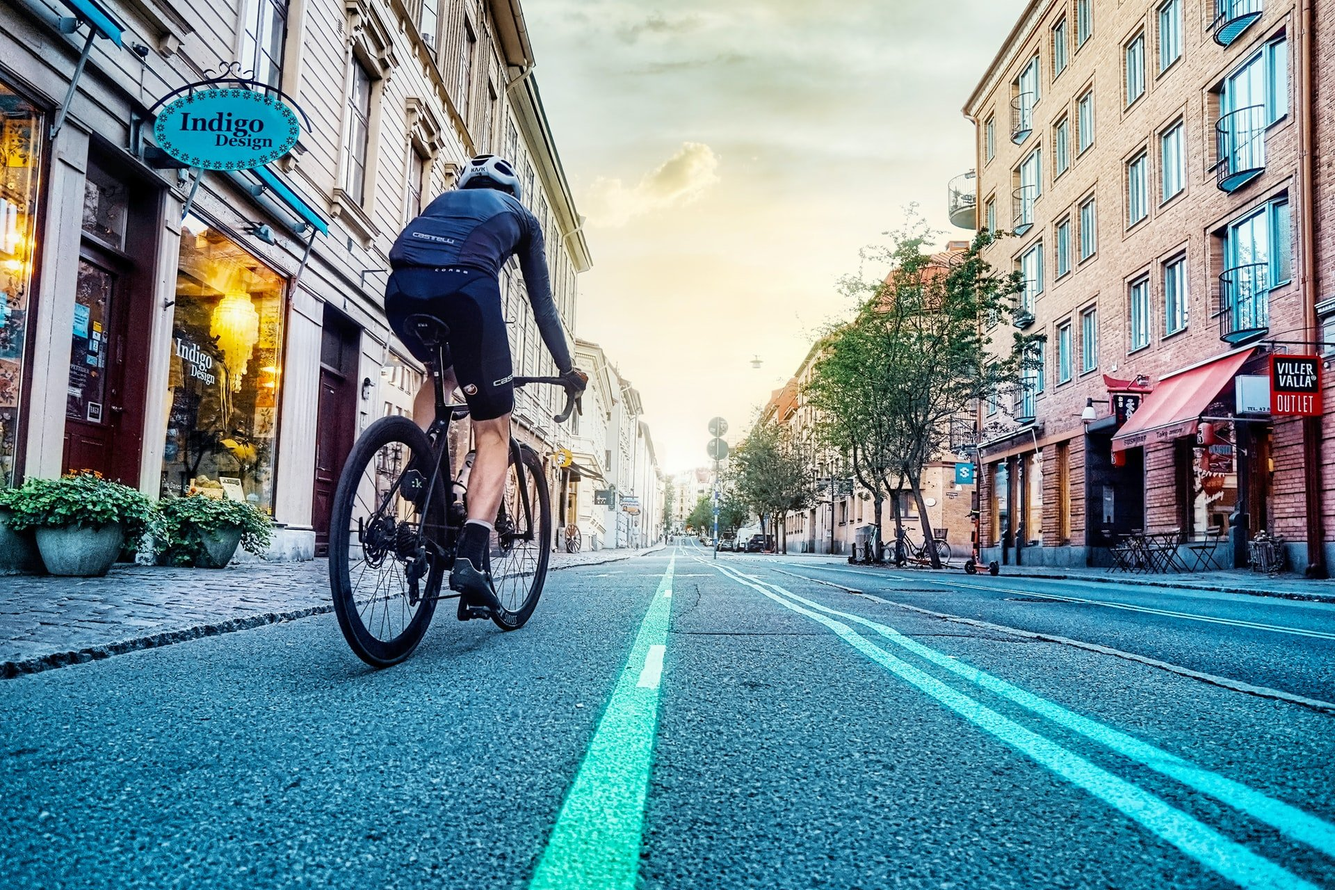Bicycle: (316, 321, 602, 672)
Tree: (807, 220, 997, 585)
